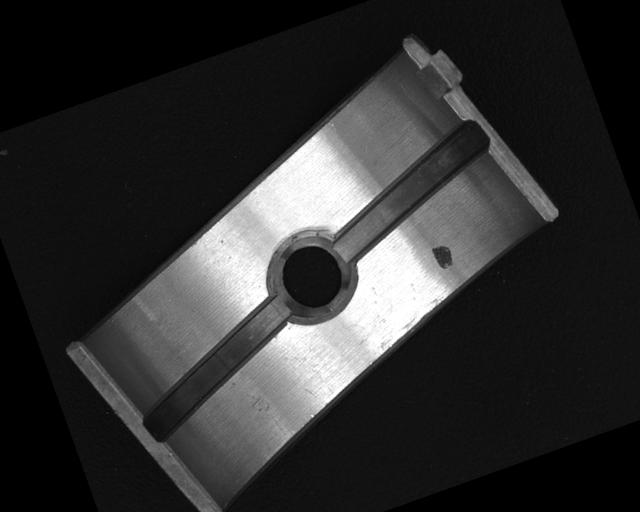blot: (429, 238, 457, 271)
gap: (116, 290, 317, 445), (312, 117, 510, 268)
hole: (262, 222, 358, 325)
